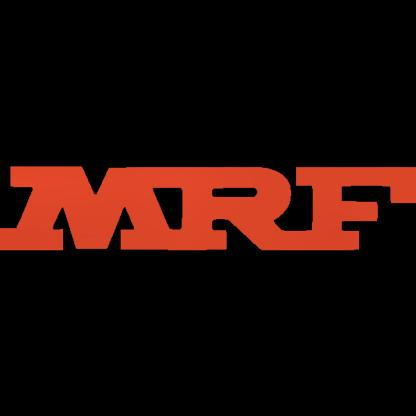MRF: (1, 165, 415, 251)
